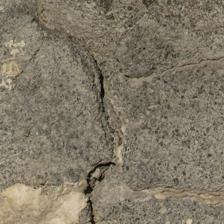Crack: (84, 162, 124, 223)
